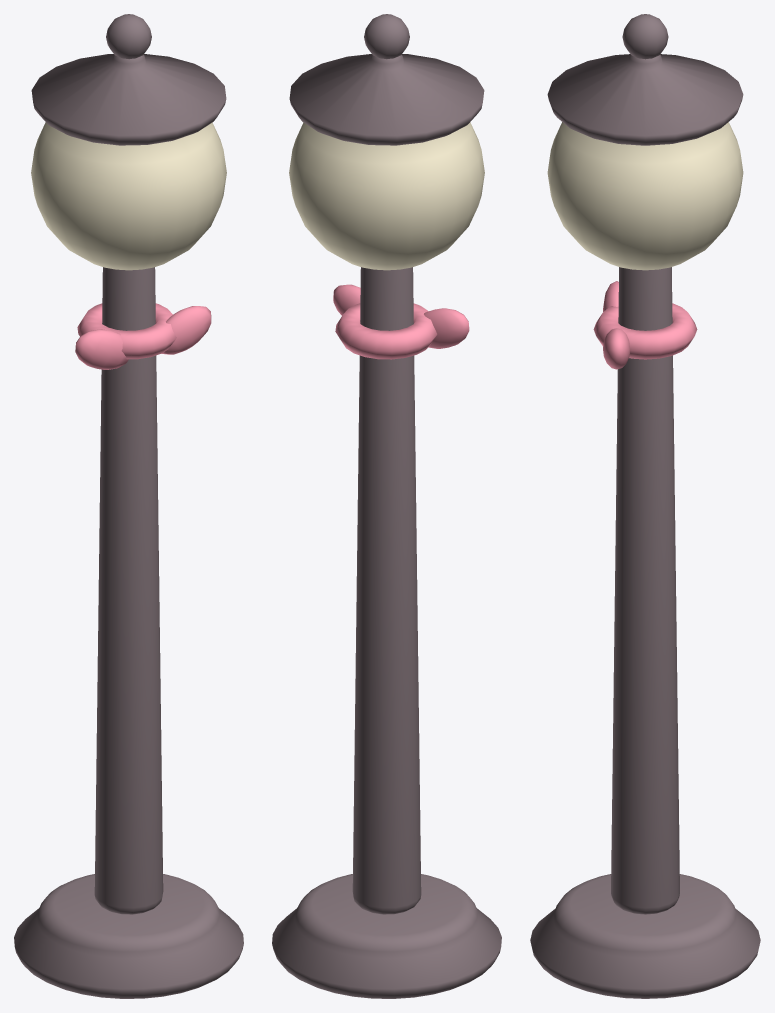
The model's file is lamppost.glb.
3 renders of one model, left to right at view 1: azimuth 30°, elevation 25°; view 2: azimuth 150°, elevation 25°; view 3: azimuth 270°, elevation 25°, orthographic.
Visible parts, largest first — view 1: c8a7a80, lantern, cff9fb5; view 2: c8a7a80, lantern, cff9fb5; view 3: c8a7a80, lantern, cff9fb5.
Part boxes in pixels (x1,y1,x2,y2): c8a7a80: (14,14,243,998); lantern: (31,122,226,270); cff9fb5: (75,303,211,369); c8a7a80: (272,14,501,998); lantern: (289,122,484,270); cff9fb5: (333,284,469,359); c8a7a80: (530,14,760,998); lantern: (547,122,743,270); cff9fb5: (593,281,697,369).
Bounding box in the file's own units: 0.4 × 1.8 × 0.4.
